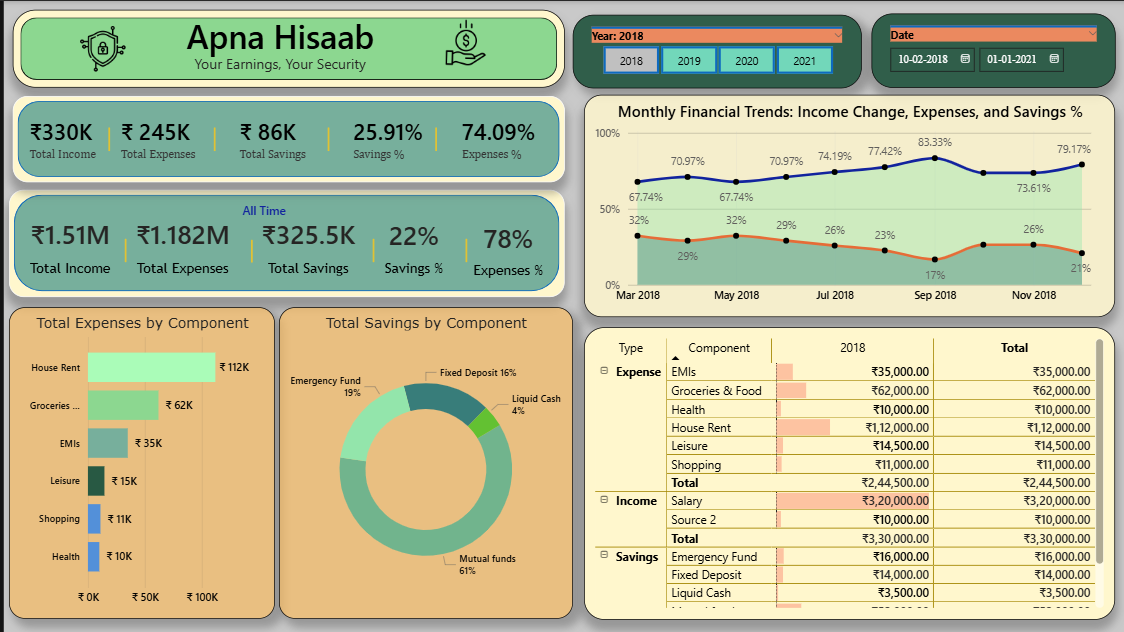

What the dashboard file says about the page in this screenshot:
{"tool":"powerbi","page":{"name":"Final Dashboard","canvas":[1280,720],"ordinal":0},"visuals":[{"type":"shape","box":[9.6,9.6,629.8,89.2],"z":0},{"type":"textbox","box":[186.6,9.6,256.6,60.4],"z":1000},{"type":"textbox","box":[164.7,54.9,299.1,38.4],"z":2000},{"type":"image","box":[480.3,22,91.9,52.1],"z":3000},{"type":"image","box":[75.5,28.8,74.1,52.1],"z":4000},{"type":"shape","box":[5.5,215.4,634,122.1],"z":5000},{"type":"actionButton","title":"₹1.51M","box":[20.6,245.6,111.1,74.1],"z":6000},{"type":"actionButton","title":"₹1.182M","box":[130.4,245.6,148.2,74.1],"z":7000},{"type":"actionButton","title":"₹325.5K","box":[252.5,245.6,189.4,74.1],"z":8000},{"type":"actionButton","title":"22%","box":[389.7,247,156.4,72.7],"z":9000},{"type":"actionButton","title":"78%","box":[516,249.7,118,68.6],"z":10000},{"type":"slicer","fields":{"Values":["FinData.Year"]},"box":[649.1,15.1,329.3,83.7],"z":11000},{"type":"slicer","fields":{"Values":["FinData.Date"]},"box":[989.4,13.7,278.6,85.1],"z":12000},{"type":"shape","box":[112.5,270.3,52.1,27.4],"z":13000},{"type":"shape","box":[256.6,271.7,52.1,26.1],"z":14000},{"type":"shape","box":[389.7,270.3,64.5,27.4],"z":15000},{"type":"shape","box":[506.3,270.3,42.5,27.4],"z":16000},{"type":"shape","box":[9.6,108.4,629.8,98.8],"z":17000},{"type":"cardVisual","fields":{"Data":["key Measure.Total Income"]},"box":[0,108.4,149.6,98.8],"z":18000},{"type":"shape","box":[89.2,144.1,60.4,27.4],"z":19000},{"type":"cardVisual","fields":{"Data":["key Measure.Total Expenses"]},"box":[104.3,108.4,149.6,98.8],"z":20000},{"type":"shape","box":[223.7,144.1,32.9,27.4],"z":21000},{"type":"cardVisual","fields":{"Data":["key Measure.Total Savings"]},"box":[240.1,108.4,149.6,98.8],"z":22000},{"type":"shape","box":[337.6,144.1,64.5,27.4],"z":23000},{"type":"cardVisual","fields":{"Data":["key Measure.Savings %"]},"box":[369.1,108.4,146.8,98.8],"z":24000},{"type":"shape","box":[463.8,144.1,59,27.4],"z":25000},{"type":"cardVisual","fields":{"Data":["key Measure.Expenses %"]},"box":[493.2,108.3,146.8,98.4],"z":26000},{"type":"textbox","box":[223.7,225,145.5,34.3],"z":27000},{"type":"clusteredBarChart","fields":{"Category":["FinData.Component"],"Y":["key Measure.Total Expenses"]},"box":[5.5,349.9,303.3,355.4],"z":28000},{"type":"donutChart","fields":{"Category":["FinData.Component"],"Y":["key Measure.Total Savings"]},"box":[314.2,349.9,334.8,355.4],"z":29000},{"type":"lineChart","title":"Monthly Financial Trends: Income Change, Expenses, and Savings %","fields":{"Y":["key Measure.Income Change MOM","key Measure.Expenses %","key Measure.Savings %"],"Category":["FinData.Date.Variation.Date Hierarchy.Year","FinData.Date.Variation.Date Hierarchy.Quarter","FinData.Date.Variation.Date Hierarchy.Month","FinData.Date.Variation.Date Hierarchy.Day"]},"box":[661.4,106.9,605.8,253.7],"z":30000},{"type":"pivotTable","fields":{"Values":["key Measure.Values"],"Columns":["FinData.Year"],"Rows":["FinData.Type","FinData.Component"]},"box":[661.4,372,605.8,333.5],"z":31000}]}

Visuals, with their boxes in screenshot pixels (x1, y1, x2, y2), scaled from the page's 1280x720 canvas onto the 1124x632 screenshot:
shape: [8, 8, 561, 87]
textbox: [164, 8, 389, 61]
textbox: [145, 48, 407, 82]
image: [422, 19, 502, 65]
image: [66, 25, 131, 71]
shape: [5, 189, 562, 296]
"₹1.51M" actionButton: [18, 216, 116, 281]
"₹1.182M" actionButton: [115, 216, 245, 281]
"₹325.5K" actionButton: [222, 216, 388, 281]
"22%" actionButton: [342, 217, 480, 281]
"78%" actionButton: [453, 219, 557, 279]
slicer - FinData.Year: [570, 13, 859, 87]
slicer - FinData.Date: [869, 12, 1113, 87]
shape: [99, 237, 145, 261]
shape: [225, 238, 271, 261]
shape: [342, 237, 399, 261]
shape: [445, 237, 482, 261]
shape: [8, 95, 561, 182]
cardVisual - key Measure.Total Income: [0, 95, 131, 182]
shape: [78, 126, 131, 151]
cardVisual - key Measure.Total Expenses: [92, 95, 223, 182]
shape: [196, 126, 225, 151]
cardVisual - key Measure.Total Savings: [211, 95, 342, 182]
shape: [296, 126, 353, 151]
cardVisual - key Measure.Savings %: [324, 95, 453, 182]
shape: [407, 126, 459, 151]
cardVisual - key Measure.Expenses %: [433, 95, 562, 181]
textbox: [196, 198, 324, 228]
clusteredBarChart - FinData.Component x key Measure.Total Expenses: [5, 307, 271, 619]
donutChart - FinData.Component x key Measure.Total Savings: [276, 307, 570, 619]
"Monthly Financial Trends: Income Change, Expenses, and Savings %" lineChart: [581, 94, 1113, 317]
pivotTable - key Measure.Values x FinData.Year: [581, 327, 1113, 619]
